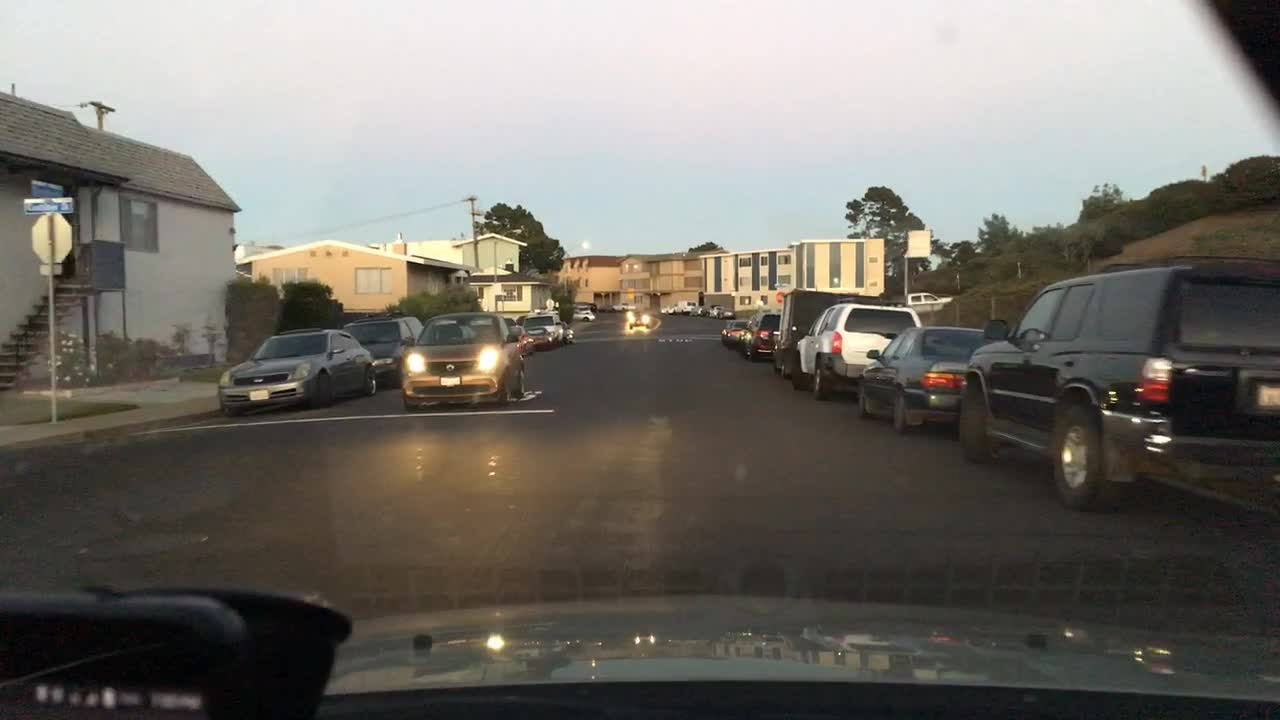car: (957, 256, 1276, 509), (859, 326, 1010, 433), (218, 328, 377, 416), (399, 311, 526, 409), (796, 302, 923, 399), (342, 315, 423, 387), (745, 313, 779, 360), (520, 313, 565, 347), (720, 319, 749, 349), (503, 317, 527, 352), (907, 293, 951, 311), (627, 310, 652, 330), (674, 300, 698, 314), (573, 309, 596, 320), (718, 308, 737, 318), (693, 304, 708, 315), (612, 303, 635, 310), (573, 303, 596, 310), (708, 305, 722, 316), (661, 306, 675, 314), (598, 305, 612, 311)
motor: (564, 325, 575, 342)
traffic sign: (30, 213, 72, 262), (23, 197, 72, 213), (907, 231, 931, 258), (32, 180, 63, 197), (40, 264, 63, 274), (543, 299, 554, 308)
truck: (774, 291, 880, 379)
